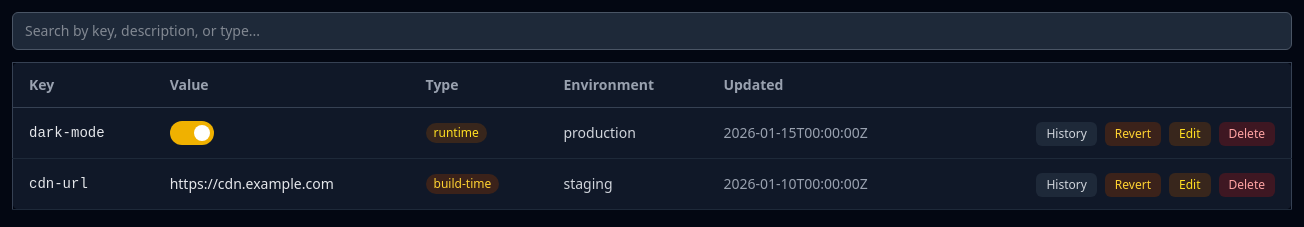
Test case: FlagTable › search/filter › shows "no results" message when search matches nothing
Type "nonexistent" into the field with placeholder "Search by key, description, or type..." at (652, 31), box [12,12,1292,50]
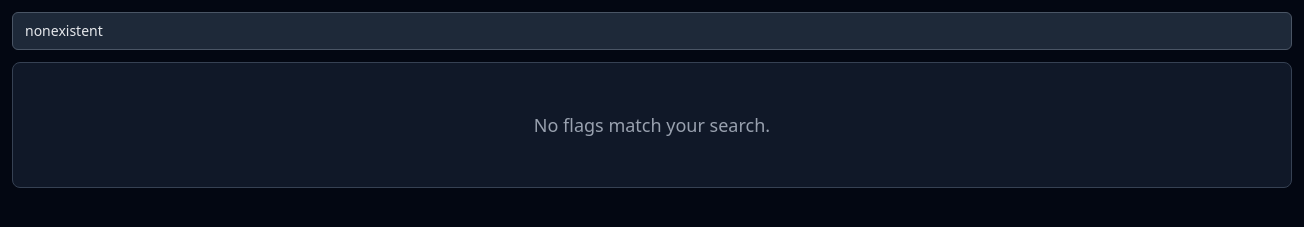
expect the text "No flags match your search." is shown: met, box [534,113,770,137]
